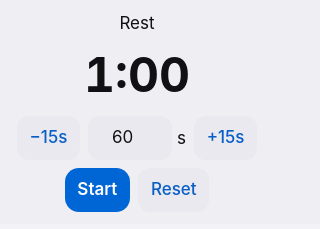
Test: Timer › can be adjusted manually with +/- buttons and the number field
Click the button named "Add 15 seconds".
click(226, 138)  # box x1=194 y1=116 x2=257 y2=160
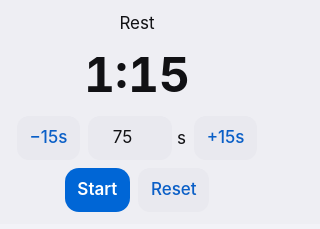
Check: the text "1:15" is shown, box x1=84 y1=43 x2=190 y2=108
Click the button named "Subtract 15 seconds".
click(48, 138)  # box x1=17 y1=116 x2=80 y2=160
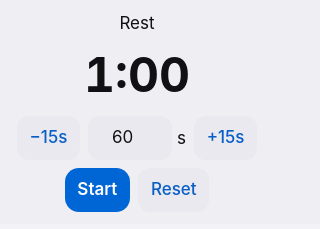
Click the button named "Subtract 15 seconds".
click(48, 138)  # box x1=17 y1=116 x2=80 y2=160
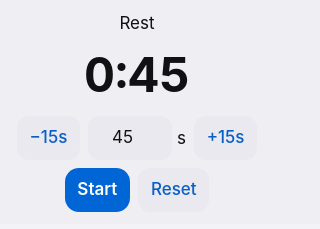
Check: the text "0:45" is shown, box x1=84 y1=43 x2=190 y2=108
Replace the text in the number field named "Duration in seconds" with "90" at (130, 138), box x1=88 y1=116 x2=172 y2=160
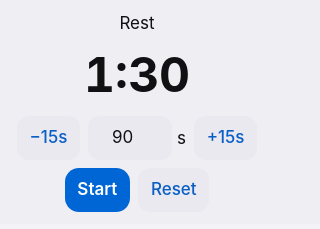
Check: the text "1:30" is shown, box x1=84 y1=43 x2=190 y2=108
